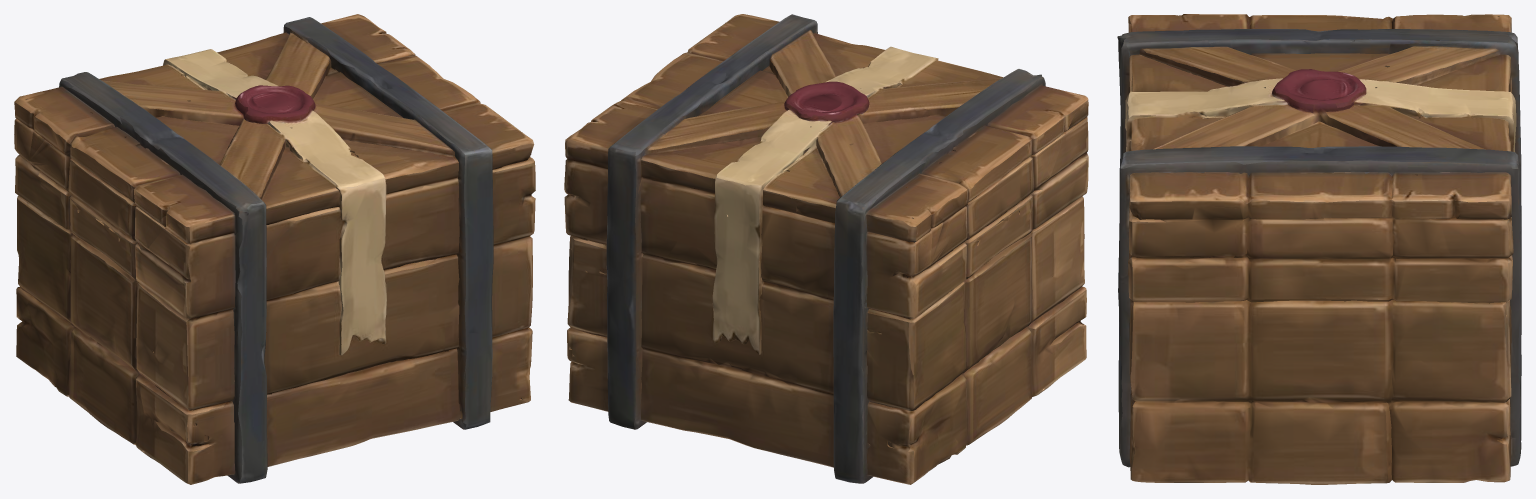
File: sealed_crate.glb
3 renders of one model, left to right at view 1: azimuth 30°, elevation 25°; view 2: azimuth 150°, elevation 25°; view 3: azimuth 270°, elevation 25°, orthographic. The views are drawn at different scales.
Parts seen in each view (by area): view 1: geometry_0; view 2: geometry_0; view 3: geometry_0.
Boxes of the visible parts, box(x1,y1,x2,y2) form: geometry_0: box(14, 14, 535, 484); geometry_0: box(564, 14, 1088, 484); geometry_0: box(1117, 14, 1521, 484).
Size of the model in its own units: 0.4 by 0.3182 by 0.3662.
1 material, 1 textured.
